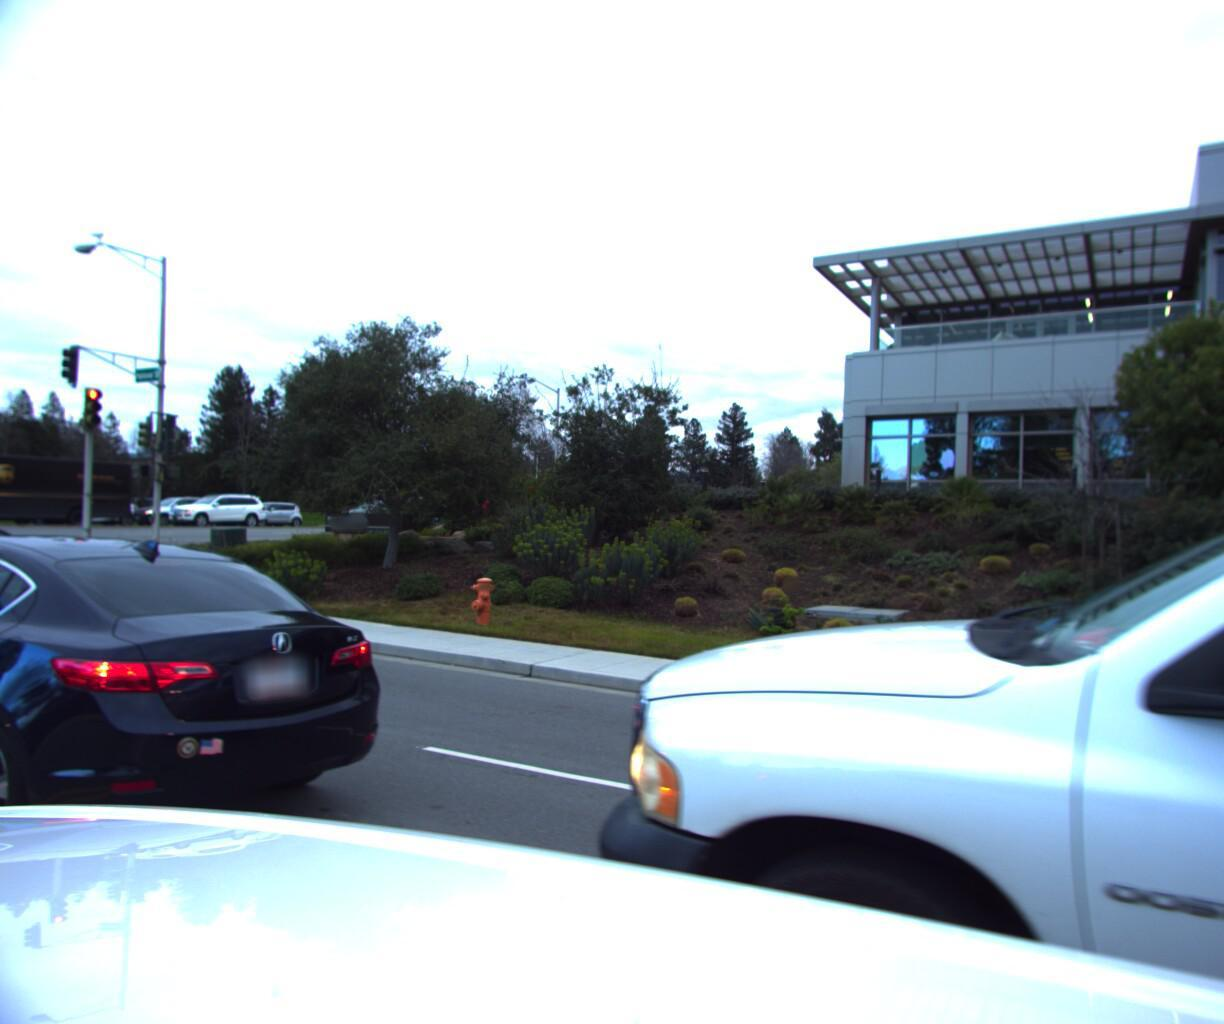car: (0, 513, 421, 928), (0, 515, 82, 623), (161, 491, 271, 527), (125, 493, 219, 527), (228, 501, 307, 527)
truck: (0, 442, 138, 528)
